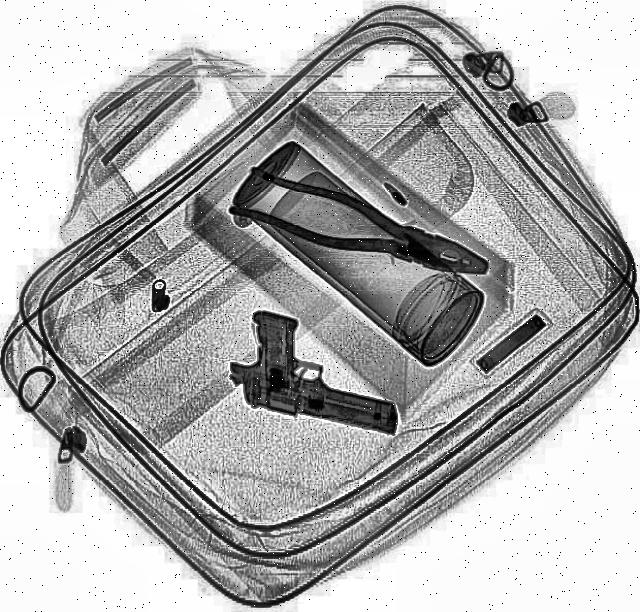Gun: (218, 310, 420, 440)
Pliers: (225, 166, 499, 294)
